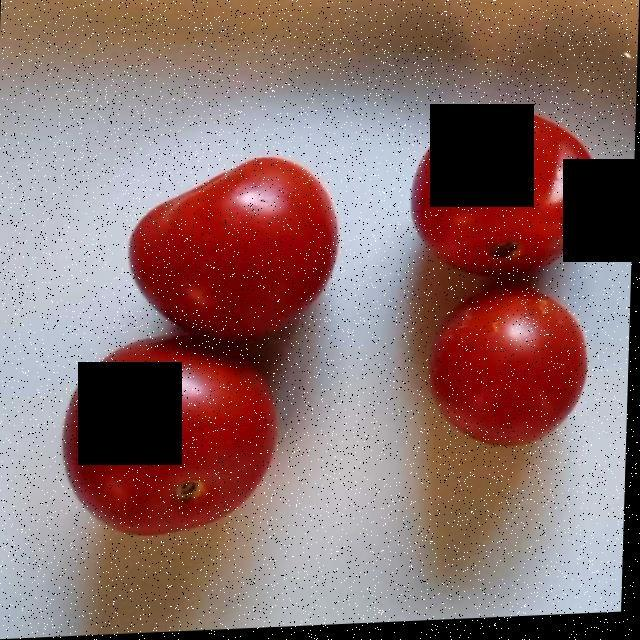tomato: (415, 117, 595, 447)
